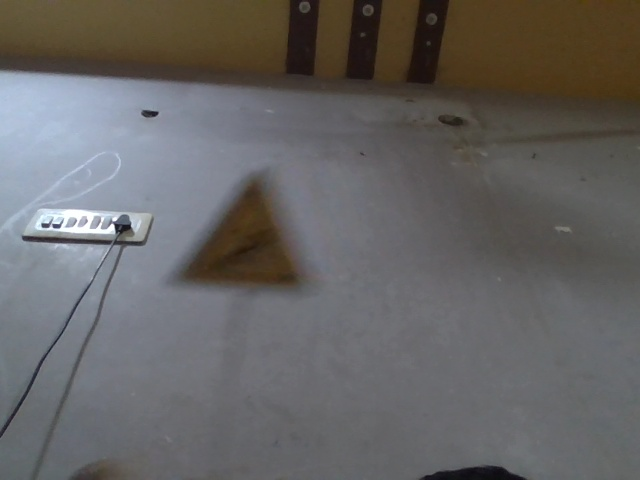workinprogress: (173, 180, 304, 299)
